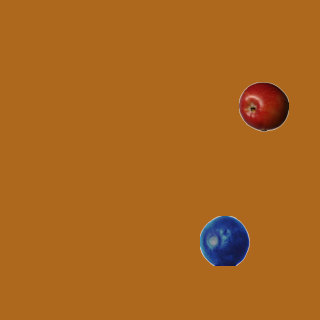Apple Braeburn: (238, 81, 288, 131)
Huckleberry: (199, 215, 249, 265)
